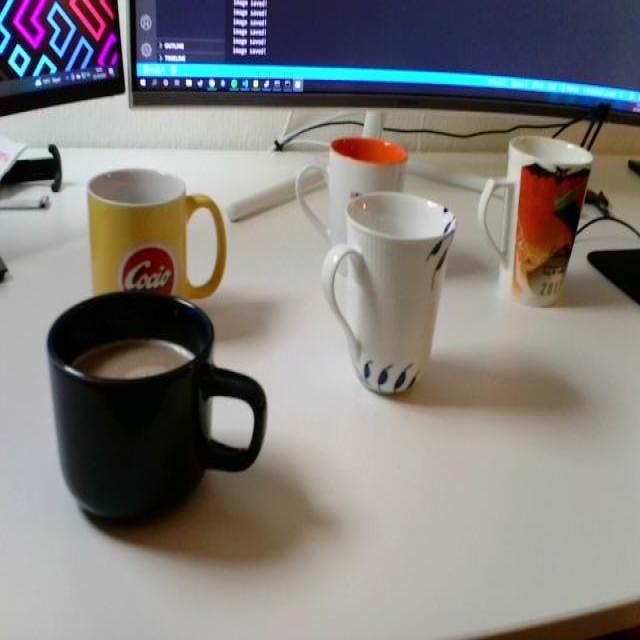cup: (42, 270, 270, 538), (315, 170, 456, 407), (478, 100, 598, 313), (79, 160, 229, 325), (290, 107, 411, 285)
